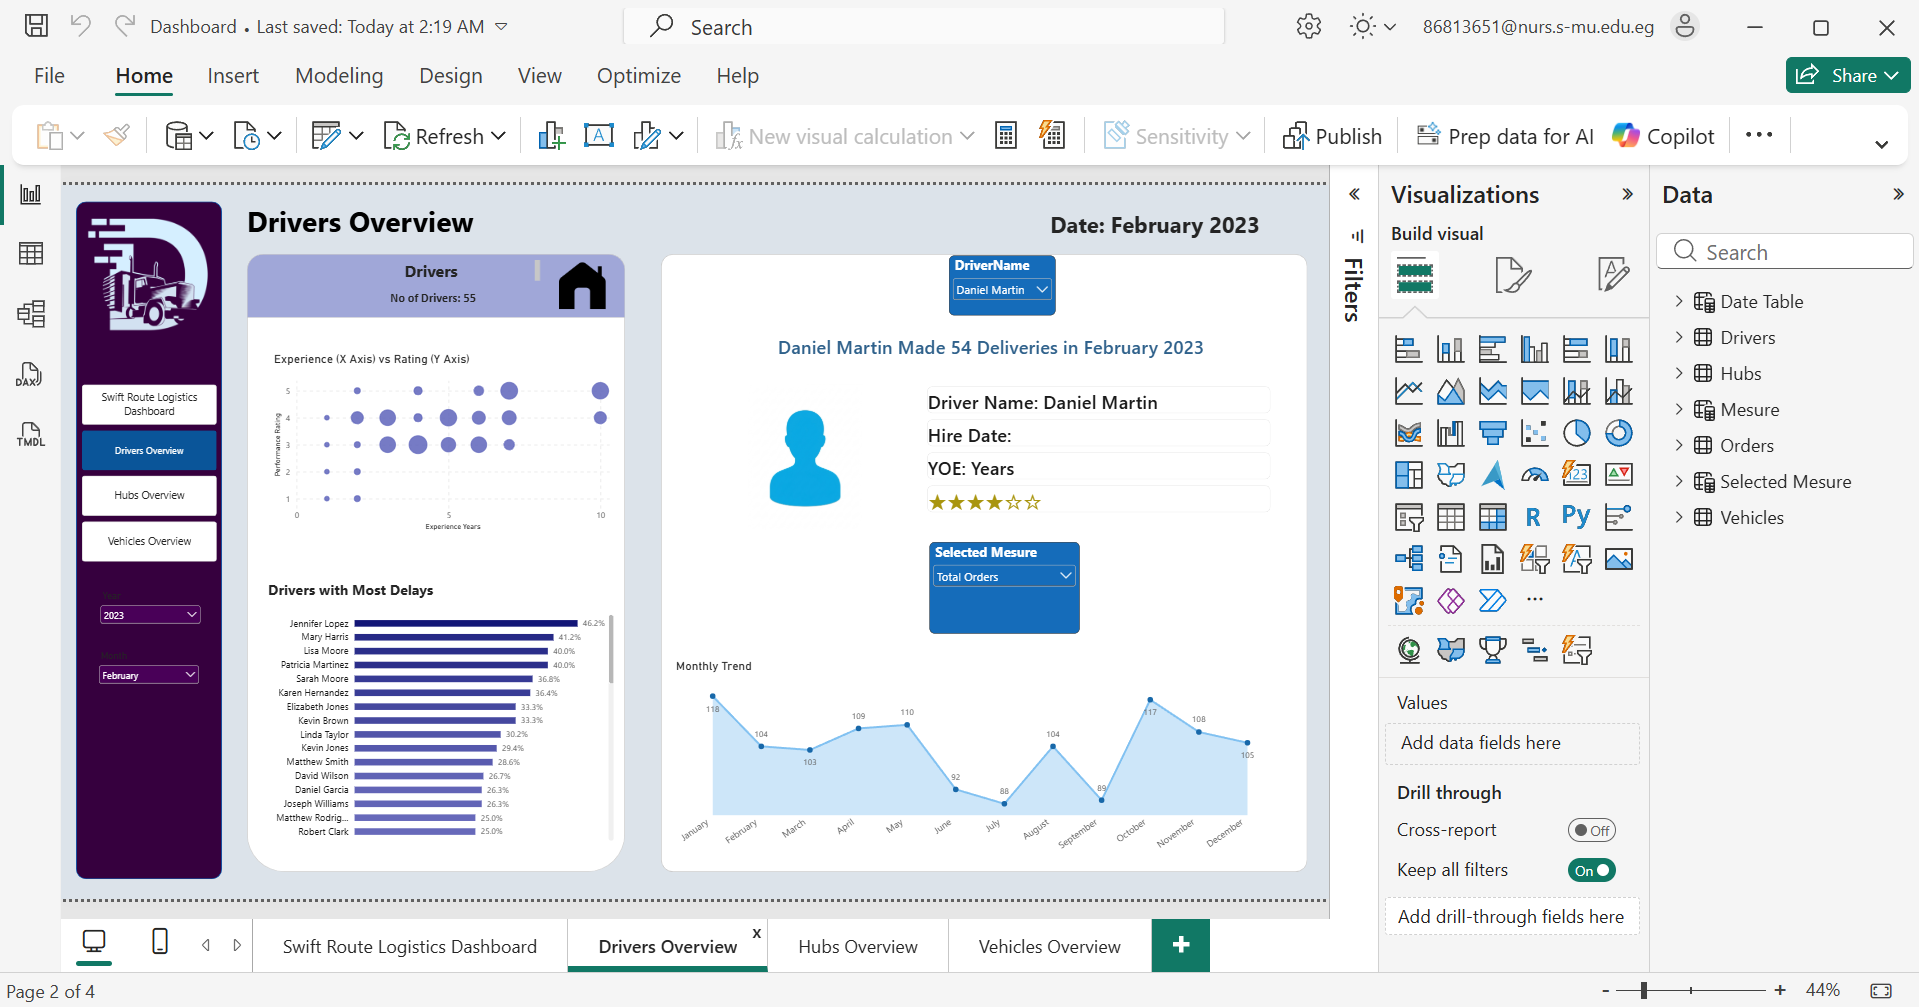

The dashboard page shown, as its layout file describes it:
{"tool":"powerbi","page":{"name":"Drivers Overview","canvas":[1920,1080],"ordinal":1},"visuals":[{"type":"textbox","box":[281.6,25,624.6,56.8],"z":0},{"type":"shape","box":[281.6,104.5,572.4,935.8],"z":1000},{"type":"shape","box":[280.6,104.9,572.6,96.4],"z":2000},{"type":"cardVisual","fields":{"Data":["Drivers.No of Drivers"]},"box":[402.5,141.7,323.2,59.5],"z":3000},{"type":"textbox","box":[402.5,113.4,323.2,39.7],"z":4000},{"type":"scatterChart","title":"Experience (X Axis) vs Rating (Y Axis)","fields":{"Size":["Sum(Drivers.Experience Years)"],"X":["Drivers.Experience Years"],"Y":["Drivers.Performance Rating"]},"box":[306.1,238.1,547.1,300.5],"z":5000},{"type":"barChart","title":"Drivers with Most Delays","fields":{"Category":["Orders.Driver Name"],"Y":["Orders.Delayed Delivery Rate"]},"box":[297.6,583.9,555.6,425.2],"z":6000},{"type":"cardVisual","fields":{"Data":["Orders.Year Month Title"]},"box":[1423,36.9,465.6,45.4],"z":7000},{"type":"shape","box":[908.5,104.5,978.9,935.8],"z":8000},{"type":"slicer","fields":{"Values":["Drivers.DriverName"]},"box":[1344.6,106.8,161.6,90.7],"z":9000},{"type":"cardVisual","fields":{"Data":["Drivers.Derivers Title"]},"box":[1069.8,218,715.5,52.2],"z":10000},{"type":"cardVisual","fields":{"Data":["Drivers.Driver Neme Title","Drivers.Hire Date title","Drivers.YOE","Drivers.Star Rating"]},"box":[1301.5,290.7,540.6,220.3],"z":11000},{"type":"image","box":[976.7,302.1,299.8,220.3],"z":12000},{"type":"areaChart","title":"Monthly Trend","fields":{"Category":["Date Table.Month"],"Y":["Orders.Total Orders"]},"box":[915.3,704.1,926.7,336.2],"z":13000},{"type":"slicer","fields":{"Values":["Selected Mesure.Selected Mesure"]},"box":[1315.1,540.6,227.1,138.5],"z":14000},{"type":"shape","box":[22.7,25.5,221.1,1026.1],"z":15000},{"type":"slicer","fields":{"Values":["Date Table.Year"]},"box":[54.5,613.3,161.6,90.7],"z":16000},{"type":"slicer","fields":{"Values":["Date Table.Month"]},"box":[52.2,704.1,161.6,73.7],"z":17000},{"type":"pageNavigator","box":[31.8,302.1,204.4,270.3],"z":18000},{"type":"image","box":[22.9,25.1,221.7,235.4],"z":19000},{"type":"image","box":[754,116.2,70.9,73.7],"z":20000}]}

Visuals, with their boxes on the page's 1920x1080 design canvas (x1, y1, x2, y2). These are canvas units, not pixel positions in the 1919x1007 screenshot, which may show the page scaled, cropped or inside an application window:
textbox: BBox(282, 25, 906, 82)
shape: BBox(282, 104, 854, 1040)
shape: BBox(281, 105, 853, 201)
cardVisual - Drivers.No of Drivers: BBox(402, 142, 726, 201)
textbox: BBox(402, 113, 726, 153)
"Experience (X Axis) vs Rating (Y Axis)" scatterChart: BBox(306, 238, 853, 539)
"Drivers with Most Delays" barChart: BBox(298, 584, 853, 1009)
cardVisual - Orders.Year Month Title: BBox(1423, 37, 1889, 82)
shape: BBox(908, 104, 1887, 1040)
slicer - Drivers.DriverName: BBox(1345, 107, 1506, 198)
cardVisual - Drivers.Derivers Title: BBox(1070, 218, 1785, 270)
cardVisual - Drivers.Driver Neme Title x Drivers.Hire Date title: BBox(1302, 291, 1842, 511)
image: BBox(977, 302, 1276, 522)
"Monthly Trend" areaChart: BBox(915, 704, 1842, 1040)
slicer - Selected Mesure.Selected Mesure: BBox(1315, 541, 1542, 679)
shape: BBox(23, 26, 244, 1052)
slicer - Date Table.Year: BBox(54, 613, 216, 704)
slicer - Date Table.Month: BBox(52, 704, 214, 778)
pageNavigator: BBox(32, 302, 236, 572)
image: BBox(23, 25, 245, 260)
image: BBox(754, 116, 825, 190)
